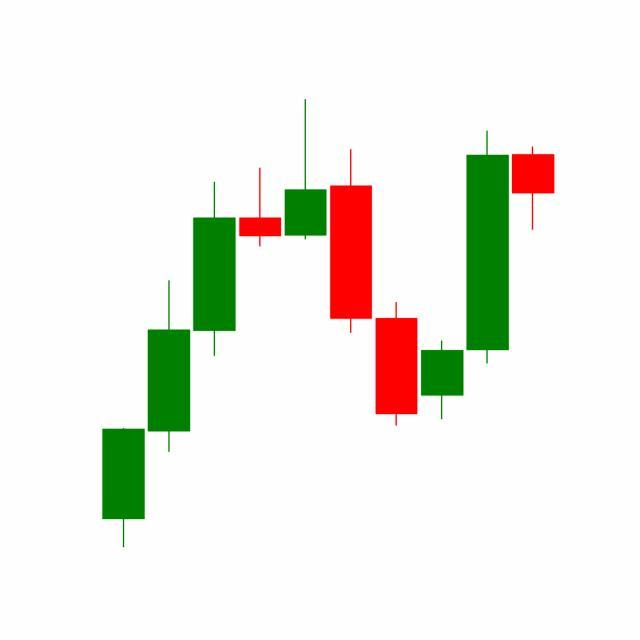Hikkake Pattern: (283, 100, 512, 431)
